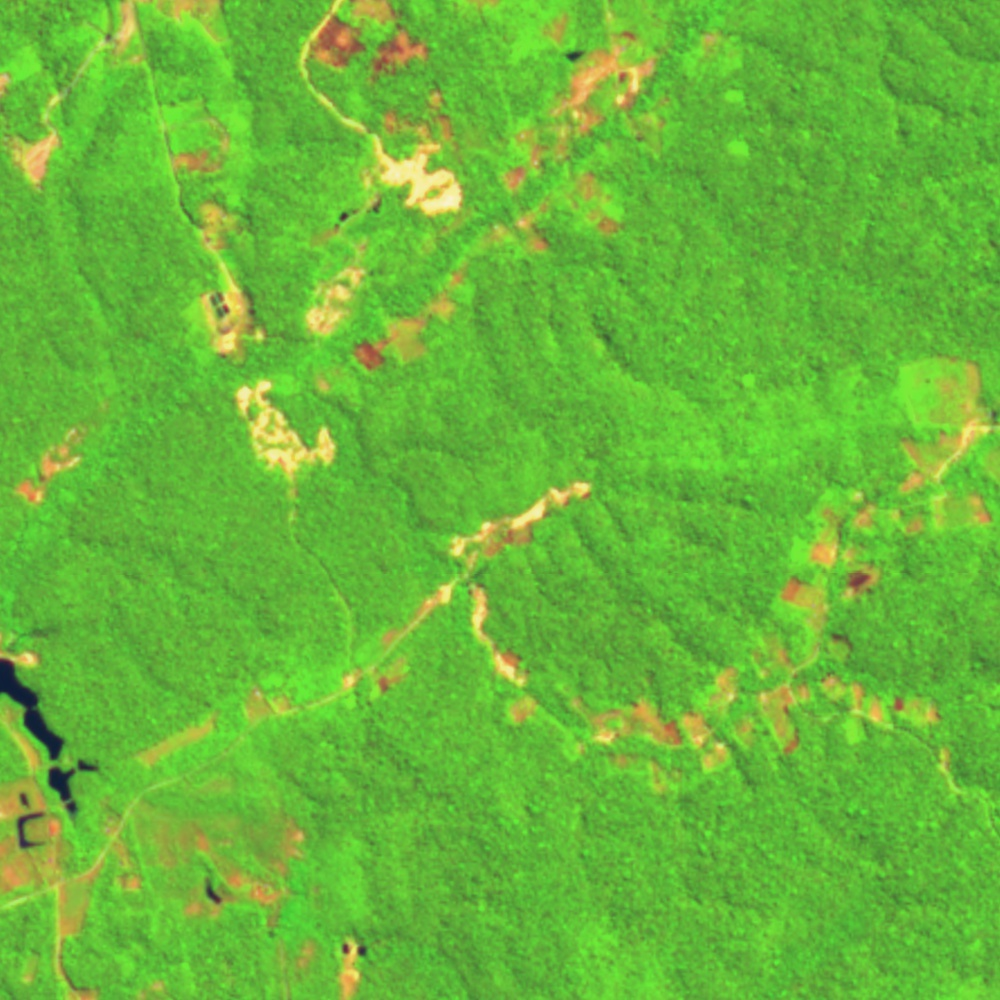legal: (563, 667, 963, 803), (469, 1, 673, 251), (1, 639, 149, 949), (302, 1, 468, 250), (159, 99, 273, 364), (143, 783, 321, 936), (769, 483, 894, 667), (889, 349, 1000, 547), (451, 469, 599, 571), (140, 677, 300, 769), (342, 576, 460, 700), (236, 380, 340, 512), (349, 267, 472, 371), (685, 20, 762, 162), (470, 578, 541, 731), (18, 396, 115, 504), (97, 1, 236, 75), (1, 68, 71, 192), (297, 248, 371, 339), (297, 928, 380, 1000)
